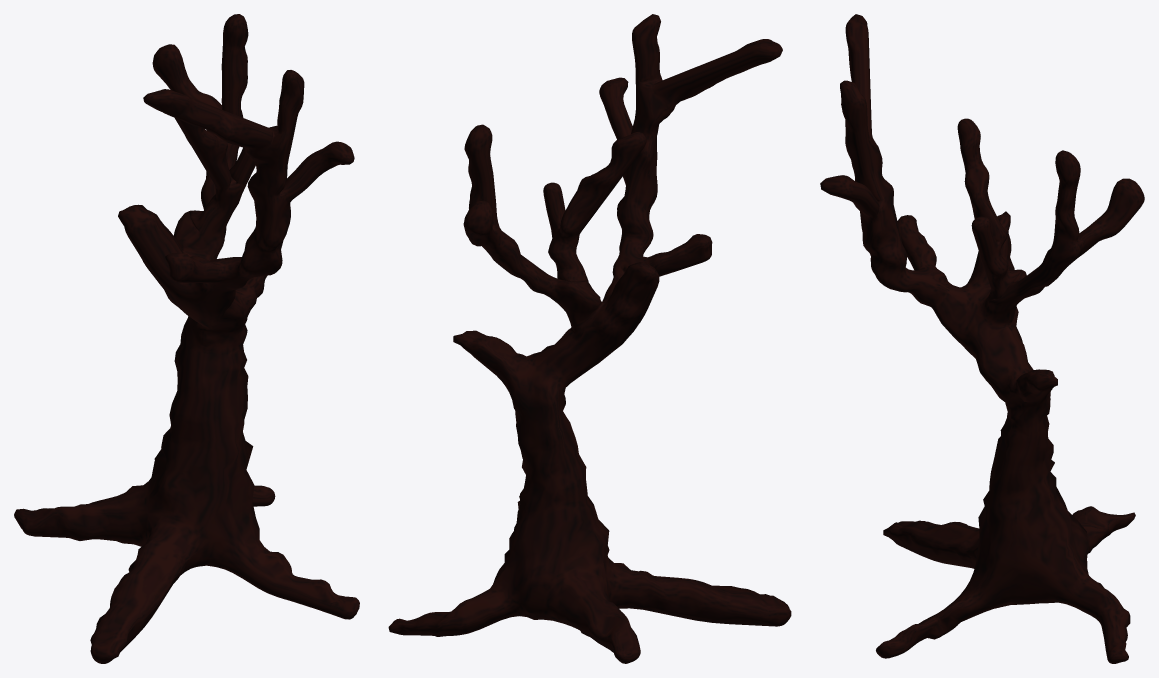
The model's file is desertTree.gltf.
3 views of the same model, side by side, from view 1: azimuth 30°, elevation 25°; view 2: azimuth 150°, elevation 25°; view 3: azimuth 270°, elevation 25° (orthographic). The views are drawn at different scales.
Parts seen in each view (by area): view 1: Plane_0; view 2: Plane_0; view 3: Plane_0.
Part boxes in pixels (x1,y1,x2,y2): Plane_0: [14, 14, 359, 663]; Plane_0: [388, 14, 791, 663]; Plane_0: [820, 14, 1144, 663].
Bounding box in the file's own units: 7.59 × 14.32 × 7.7.
1 material, 1 textured.
